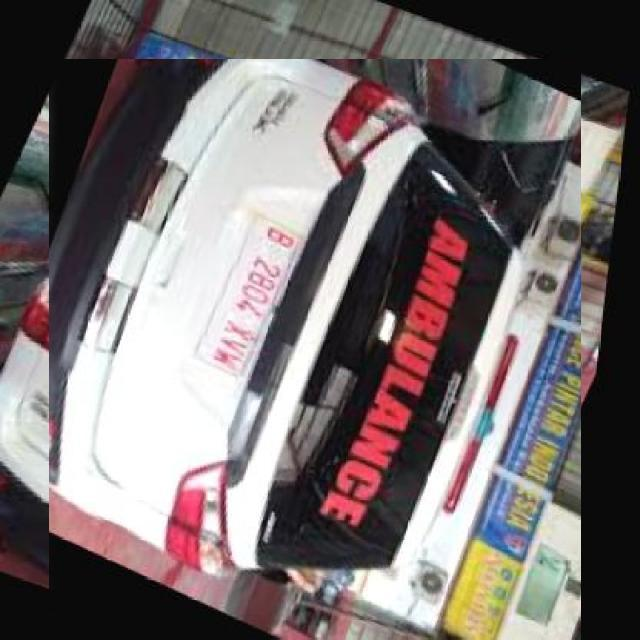emergency-vehicle: (24, 83, 605, 640)
